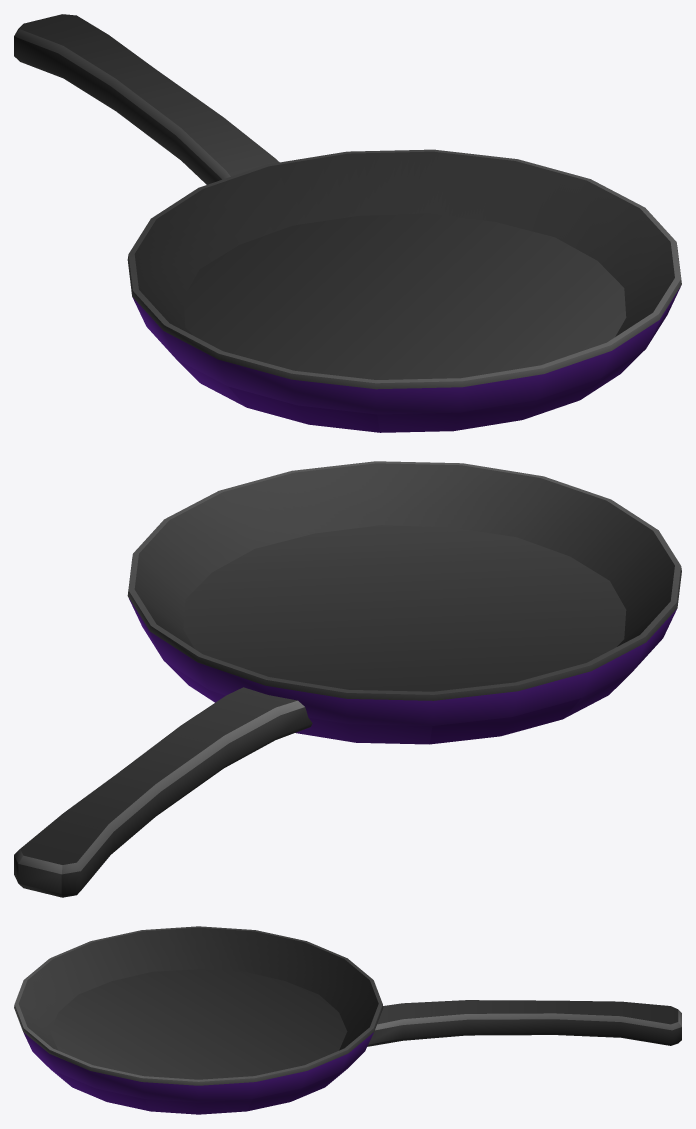
Rendered from Pan_1.glb.
3 renders of one model, top to bottom at view 1: azimuth 30°, elevation 25°; view 2: azimuth 150°, elevation 25°; view 3: azimuth 270°, elevation 25°, orthographic. The views are drawn at different scales.
Visible parts, largest first — view 1: Pan_1; view 2: Pan_1; view 3: Pan_1.
Boxes of the visible parts, <box> form: Pan_1: <box>14,14,681,432</box>; Pan_1: <box>14,461,681,897</box>; Pan_1: <box>14,926,681,1114</box>.
Size of the model in its own units: 0.2586 by 0.0347 by 0.4678.
Materials: 1 (1 with a texture image).
